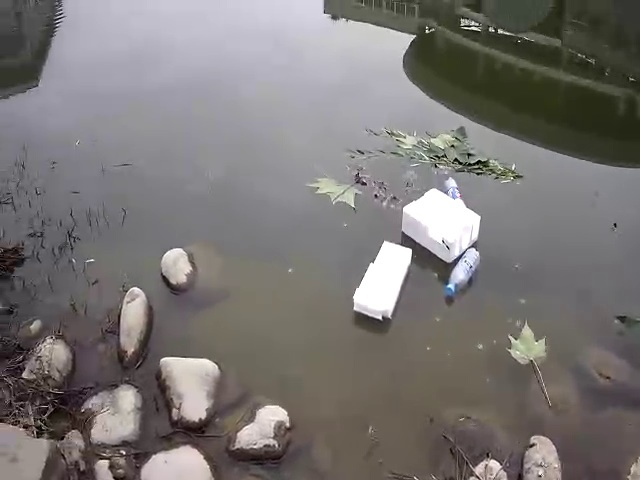bottle: (448, 248, 482, 298), (442, 173, 469, 205)
leaf: (356, 121, 523, 181), (497, 321, 552, 368), (307, 170, 362, 211)
paomo: (398, 186, 483, 257), (353, 236, 414, 324)
